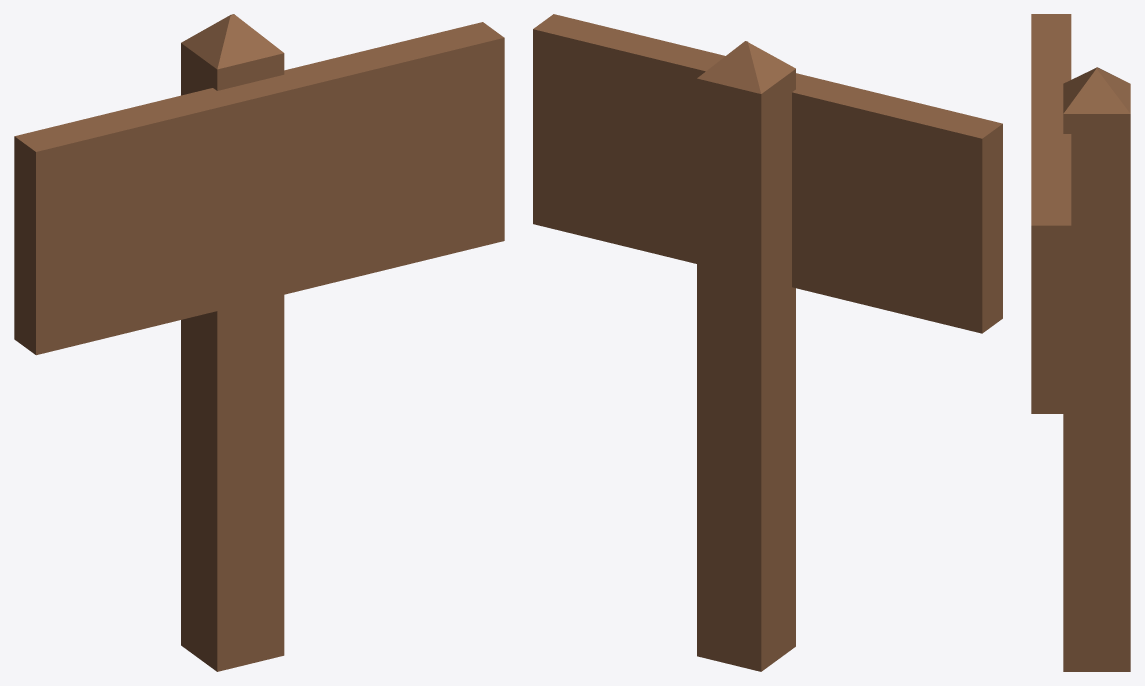
File: simple_sign.fbx
3 renders of one model, left to right at view 1: azimuth 30°, elevation 25°; view 2: azimuth 150°, elevation 25°; view 3: azimuth 270°, elevation 25°, orthographic. The views are drawn at different scales.
Parts seen in each view (by area): view 1: simple_sign; view 2: simple_sign; view 3: simple_sign.
Boxes of the visible parts, <box> form: simple_sign: <box>14,14,504,671</box>; simple_sign: <box>533,14,1002,671</box>; simple_sign: <box>1031,14,1130,671</box>.
Size of the model in its own units: 114 by 147 by 22.49.
